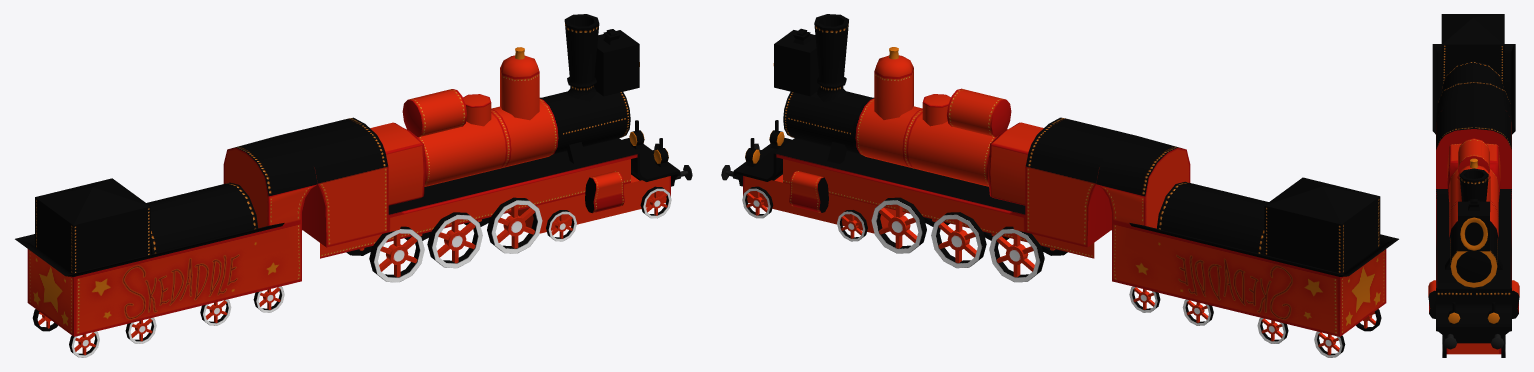
Rendered from TrainEngine.fbx.
The picture shows the model from 3 angles, left to right: view 1: azimuth 30°, elevation 25°; view 2: azimuth 150°, elevation 25°; view 3: azimuth 270°, elevation 25°; orthographic projection. The views are drawn at different scales.
Parts seen in each view (by area): view 1: Rear_Carriage, Engine, Front_Cabin, Right_Wheel_4, Right_Wheel_3, Right_Wheel_5, Right_Gear, Right_Wheel_2, Right_Wheel_1, Right_Wheel_9, Right_Wheel_6, Right_Wheel_7; view 2: Rear_Carriage, Engine, Front_Cabin, Left_Wheel_3, Left_Wheel_4, Left_Wheel_5, Left_Gear, Left_Wheel_2, Left_Wheel_1, Left_Wheel_9, Left_Wheel_6; view 3: Front_Cabin, Rear_Carriage, Engine, Right_Gear, Left_Gear, Right_Light, Left_Light.
Part boxes in pixels (<box>): Rear_Carriage: <box>15,135,317,336</box>; Engine: <box>370,14,639,205</box>; Front_Cabin: <box>279,117,692,258</box>; Right_Wheel_4: <box>427,212,482,268</box>; Right_Wheel_3: <box>487,197,542,253</box>; Right_Wheel_5: <box>369,226,424,282</box>; Right_Gear: <box>585,171,624,213</box>; Right_Wheel_2: <box>546,210,576,241</box>; Right_Wheel_1: <box>640,186,671,218</box>; Right_Wheel_9: <box>69,331,99,357</box>; Right_Wheel_6: <box>253,286,284,312</box>; Right_Wheel_7: <box>200,299,231,325</box>; Rear_Carriage: <box>1096,135,1398,336</box>; Engine: <box>773,14,1043,205</box>; Front_Cabin: <box>721,117,1135,258</box>; Left_Wheel_3: <box>871,197,926,253</box>; Left_Wheel_4: <box>931,212,986,268</box>; Left_Wheel_5: <box>989,226,1044,282</box>; Left_Gear: <box>789,171,828,212</box>; Left_Wheel_2: <box>837,210,867,241</box>; Left_Wheel_1: <box>742,186,773,218</box>; Left_Wheel_9: <box>1314,331,1345,357</box>; Left_Wheel_6: <box>1129,286,1160,312</box>; Front_Cabin: <box>1436,100,1511,354</box>; Rear_Carriage: <box>1432,14,1515,134</box>; Engine: <box>1445,138,1502,287</box>; Right_Gear: <box>1428,280,1435,318</box>; Left_Gear: <box>1512,280,1519,318</box>; Right_Light: <box>1448,302,1460,325</box>; Left_Light: <box>1487,302,1499,325</box>.
Size of the model in its own units: 48.76 by 14.41 by 7.45.
